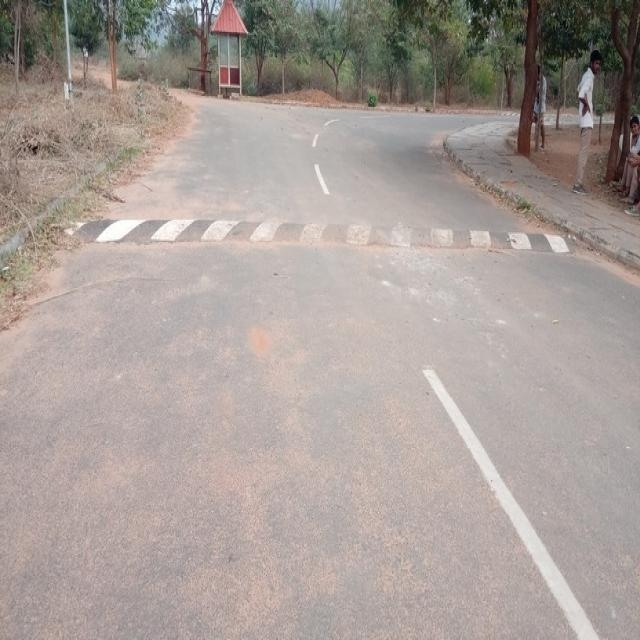Marked Bump: (77, 206, 573, 256)
